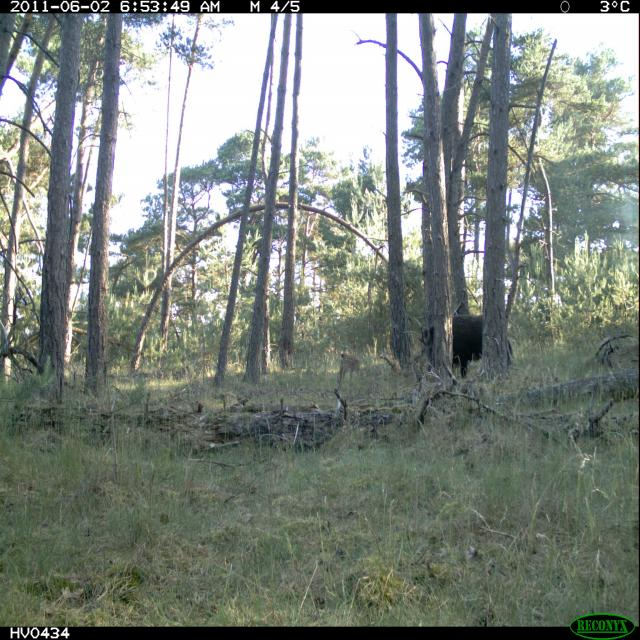boar: (393, 282, 535, 399)
